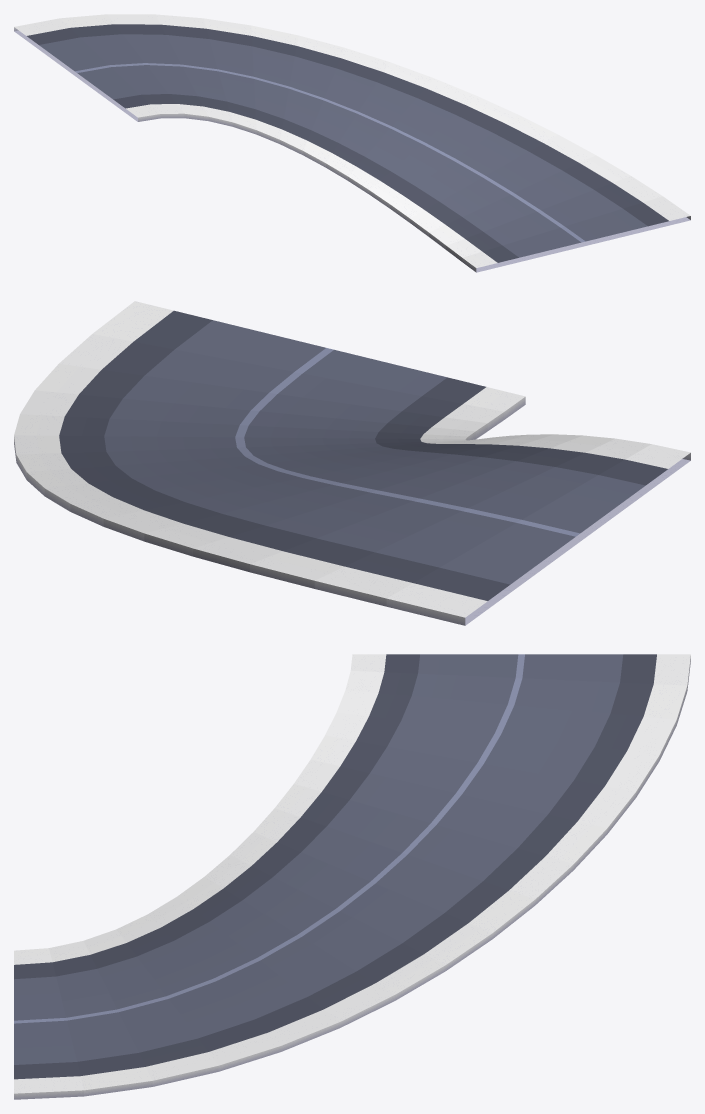
File: road-Turn-Flat-Flat-Up2-Left-Size2.glb
The picture shows the model from 3 angles, top to bottom: view 1: azimuth 30°, elevation 25°; view 2: azimuth 150°, elevation 25°; view 3: azimuth 270°, elevation 25°; orthographic projection. The views are drawn at different scales.
Visible parts, largest first — view 1: road-Turn-Flat-Flat-Up2-Left-Size2; view 2: road-Turn-Flat-Flat-Up2-Left-Size2; view 3: road-Turn-Flat-Flat-Up2-Left-Size2.
Part boxes in pixels (<box>): road-Turn-Flat-Flat-Up2-Left-Size2: <box>14,14,690,272</box>; road-Turn-Flat-Flat-Up2-Left-Size2: <box>14,301,690,625</box>; road-Turn-Flat-Flat-Up2-Left-Size2: <box>14,654,690,1099</box>.
Bounding box in the file's own units: 2 × 0.52 × 2.
1 material, 1 textured.
